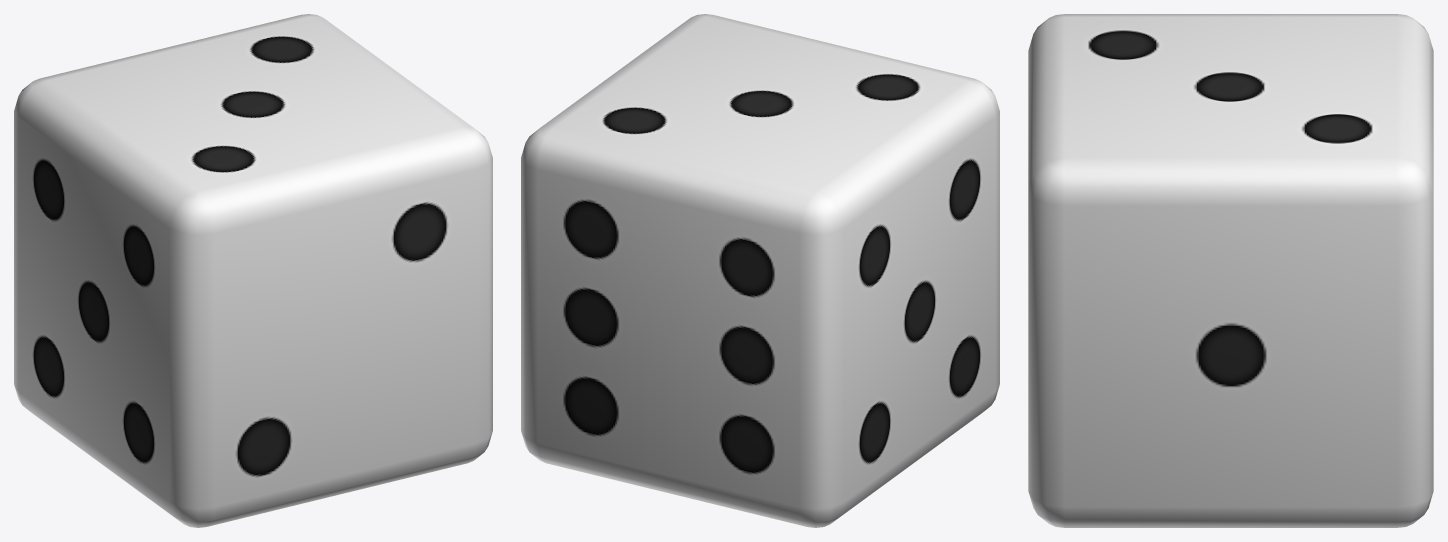
3 views of the same model, side by side, from view 1: azimuth 30°, elevation 25°; view 2: azimuth 150°, elevation 25°; view 3: azimuth 270°, elevation 25° (orthographic). The views are drawn at different scales.
Visible parts, largest first — view 1: smMAT0110004; view 2: smMAT0110004; view 3: smMAT0110004.
Boxes of the visible parts, left/top/right/bottom form: smMAT0110004: left=14, top=14, right=492, bottom=527; smMAT0110004: left=521, top=14, right=999, bottom=527; smMAT0110004: left=1028, top=14, right=1433, bottom=527.
Bounding box in the file's own units: 5.85 × 5.85 × 5.85.
1 material, 1 textured.
